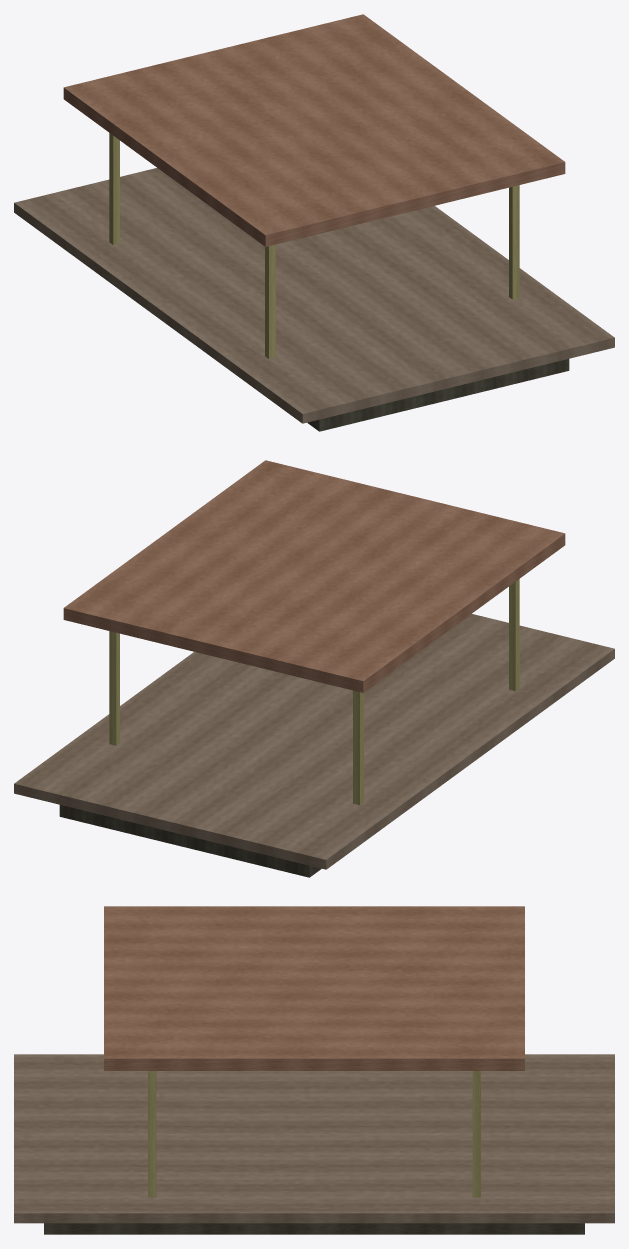
Rendered from bung-raft-2-rust-lod.glb.
The picture shows the model from 3 angles, top to bottom: view 1: azimuth 30°, elevation 25°; view 2: azimuth 150°, elevation 25°; view 3: azimuth 270°, elevation 25°; orthographic projection. The views are drawn at different scales.
Visible parts, largest first — view 1: bung-raft-2-rust-lod; view 2: bung-raft-2-rust-lod; view 3: bung-raft-2-rust-lod.
Part boxes in pixels (x1=…): bung-raft-2-rust-lod: x1=14, y1=14, x2=614, y2=431; bung-raft-2-rust-lod: x1=14, y1=460, x2=614, y2=877; bung-raft-2-rust-lod: x1=14, y1=906, x2=614, y2=1234.
Bounding box in the file's own units: 5 × 2.78 × 8.
1 material, 1 textured.
